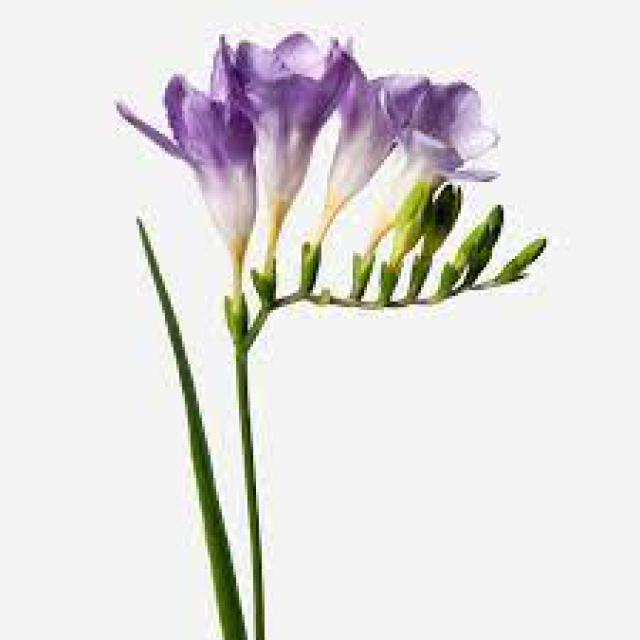freesia: (109, 47, 542, 257)
